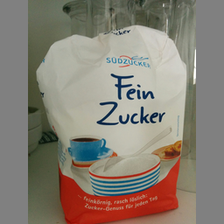tomato_sauce: (35, 23, 189, 223)
